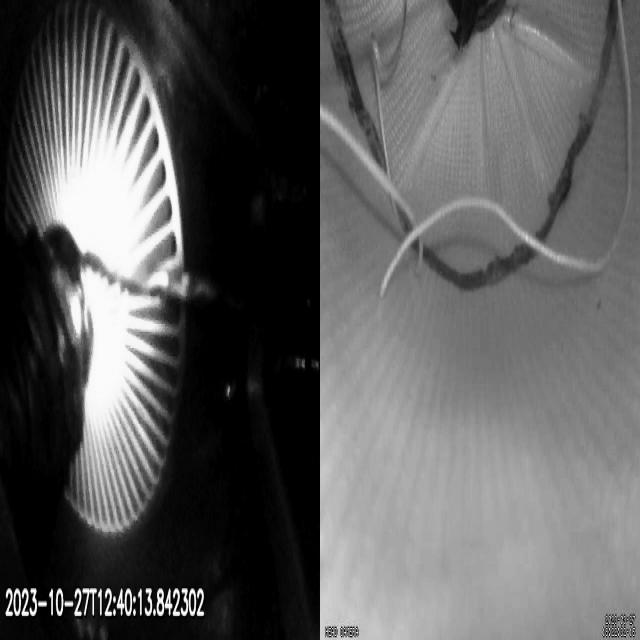red-circle: (324, 0, 621, 292)
